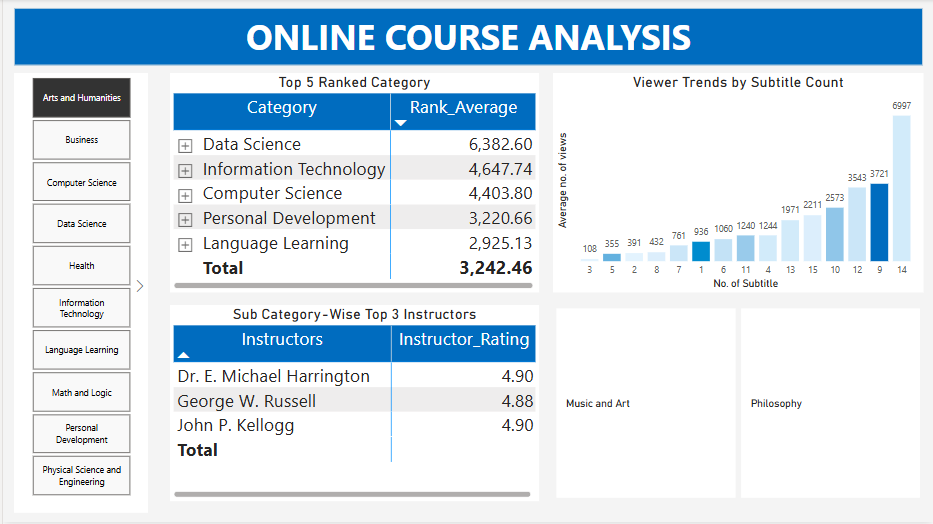

The page's visual inventory and layout, read from the dashboard file:
{"tool":"powerbi","page":{"name":"Page 2","canvas":[1280,720],"ordinal":2},"visuals":[{"type":"textbox","box":[15.6,12.8,1251.5,79.4],"z":0},{"type":"shape","box":[15.5,101.9,184.5,605.2],"z":1000},{"type":"pivotTable","title":"Top 5 Ranked Category ","fields":{"Rows":["Online Courses.Category","Online Courses.Language"],"Values":["Online Courses.Rank_Category_by_Views"]},"box":[230,101.7,508.3,301.7],"z":2000},{"type":"clusteredColumnChart","title":"Viewer Trends by Subtitle Count","fields":{"Category":["Online Courses.Subtitle language count"],"Y":["Online Courses.Number of viewers"]},"box":[756.7,102.2,510,302.2],"z":3000},{"type":"pivotTable","title":"Sub Category-Wise Top 3 Instructors","fields":{"Rows":["Teachers.Instructors"],"Values":["Teachers.Instructor_Rating"]},"box":[230,421.7,508.3,270],"z":4000},{"type":"advancedSlicerVisual","fields":{"Values":["Teachers.Sub-Category"]},"box":[756.7,421.7,510,270],"z":5000},{"type":"slicer","fields":{"Values":["Online Courses.Category"]},"box":[15.6,102,184.3,588.2],"z":6000}]}

Visuals, with their boxes in screenshot pixels (x1, y1, x2, y2), scaled from the page's 1280x720 canvas onto the 933x524 screenshot:
textbox: x1=11, y1=9, x2=924, y2=67
shape: x1=11, y1=74, x2=146, y2=515
"Top 5 Ranked Category " pivotTable: x1=168, y1=74, x2=538, y2=294
"Viewer Trends by Subtitle Count" clusteredColumnChart: x1=552, y1=74, x2=923, y2=294
"Sub Category-Wise Top 3 Instructors" pivotTable: x1=168, y1=307, x2=538, y2=503
advancedSlicerVisual - Teachers.Sub-Category: x1=552, y1=307, x2=923, y2=503
slicer - Online Courses.Category: x1=11, y1=74, x2=146, y2=502
